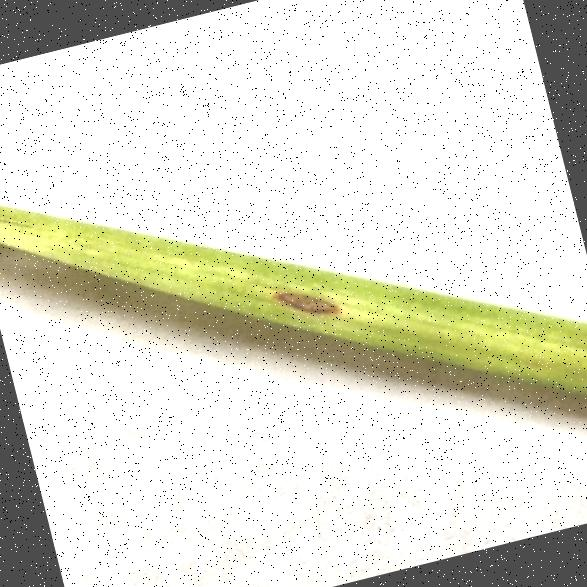Leaf_smut: (257, 247, 360, 331)
